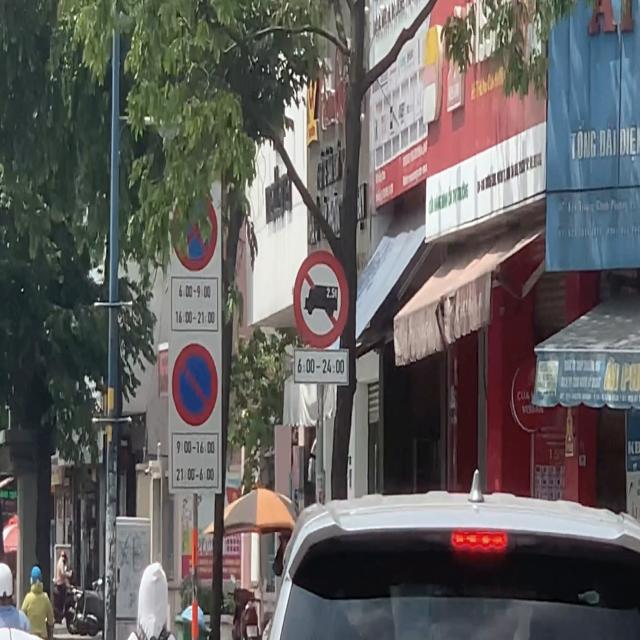Cam con lai: (294, 248, 352, 347)
Cam do: (169, 338, 222, 428)
